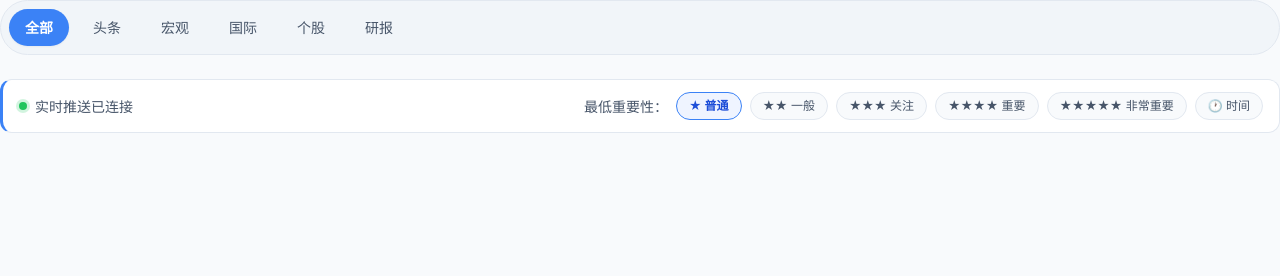
NewsView › switches to research tab with symbol input (F29)
Click the tab with class "news-tab" showing "研报". click: (379, 28)
box: [349, 9, 409, 46]
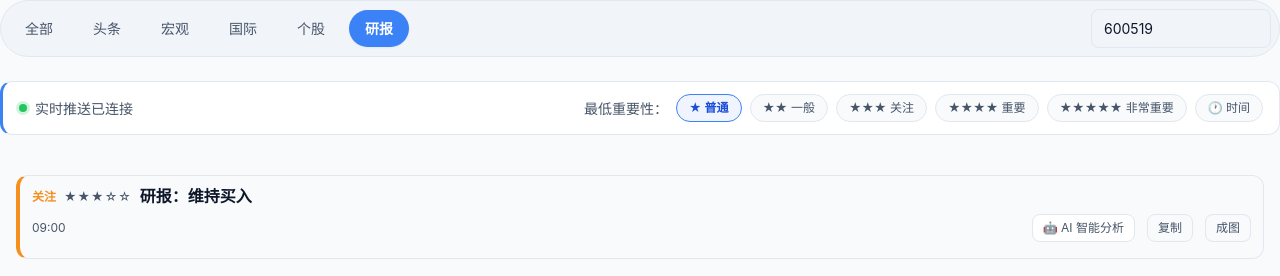
Expected: the text "研报：维持买入" is shown, [140, 188, 252, 206]
